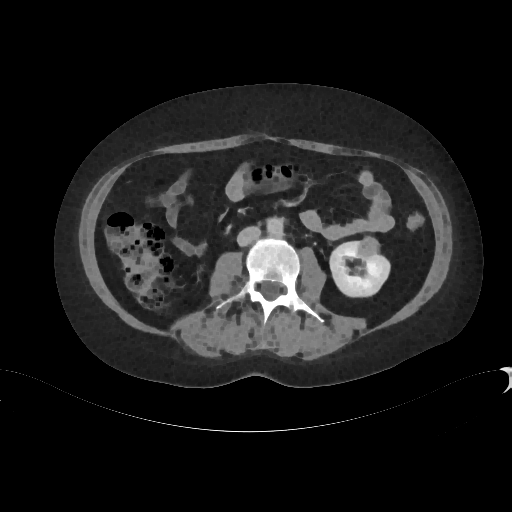Lesion: (358, 236, 381, 258)
